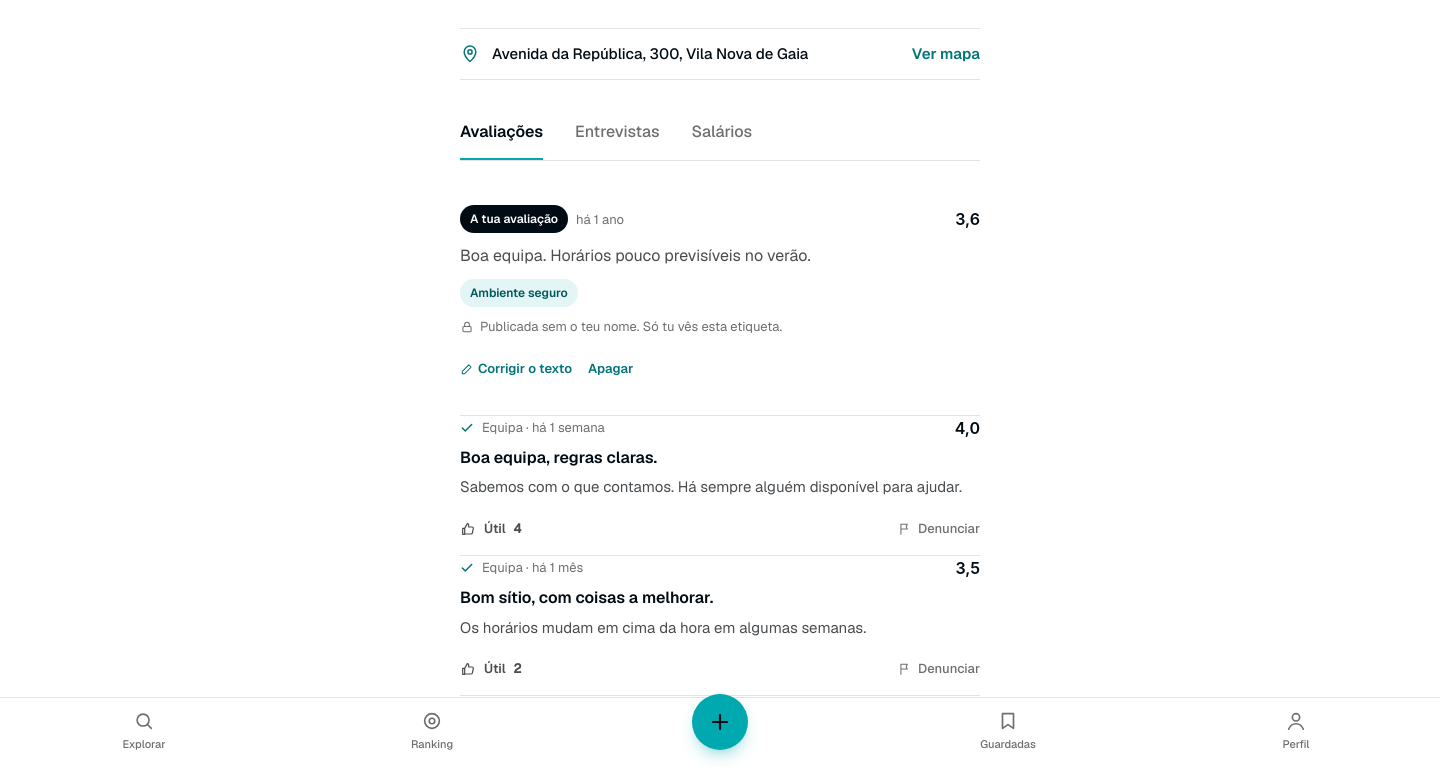
Test: A minha avaliação (mobile) › apagar pede confirmação; cancelar mantém, confirmar apaga
(page scrolled)
Click the button "Apagar" at (611, 369), box [588,347,633,391]
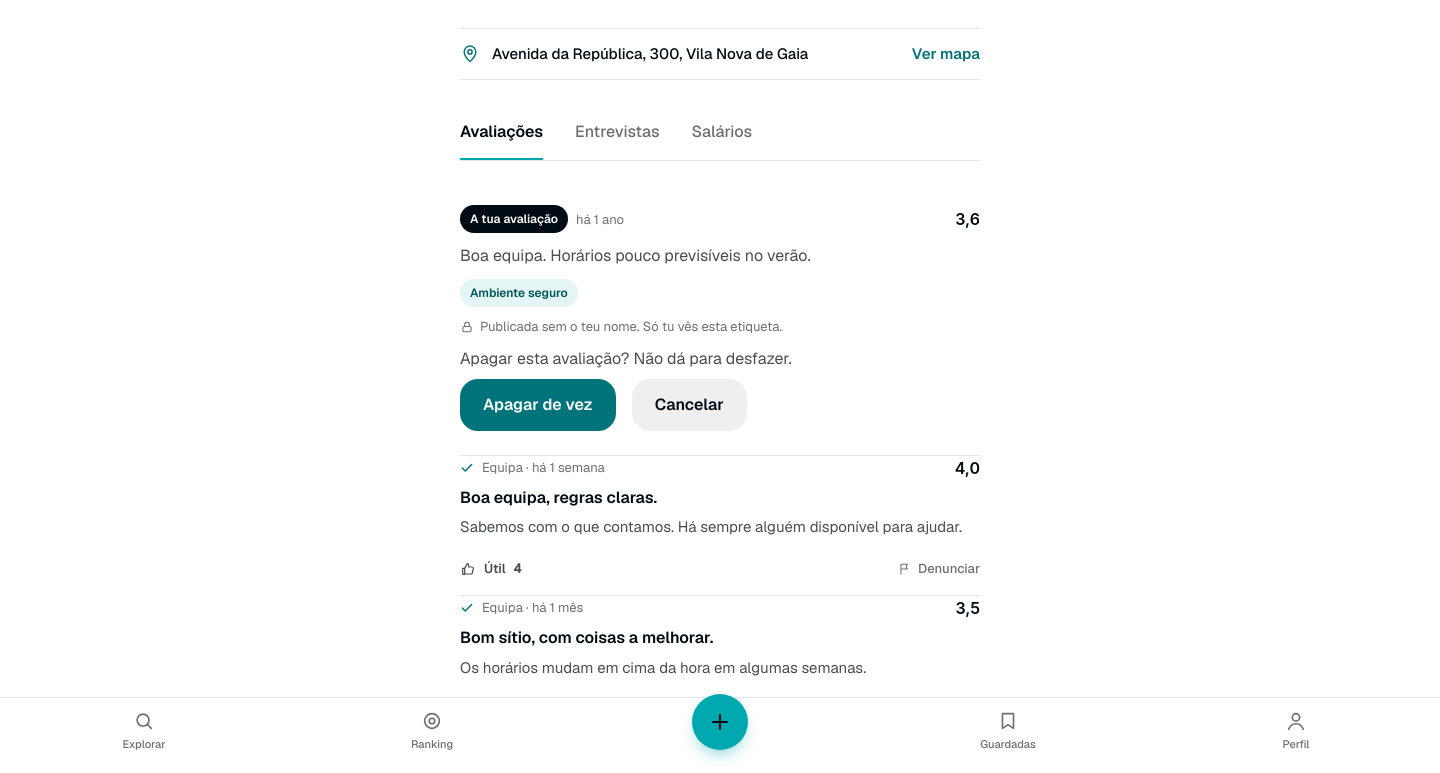
Expected: the text "Apagar esta avaliação? Não dá para desfazer." is shown, [460,348,792,369]
Click the button "Cancelar" at (689, 405), box [632,379,747,431]
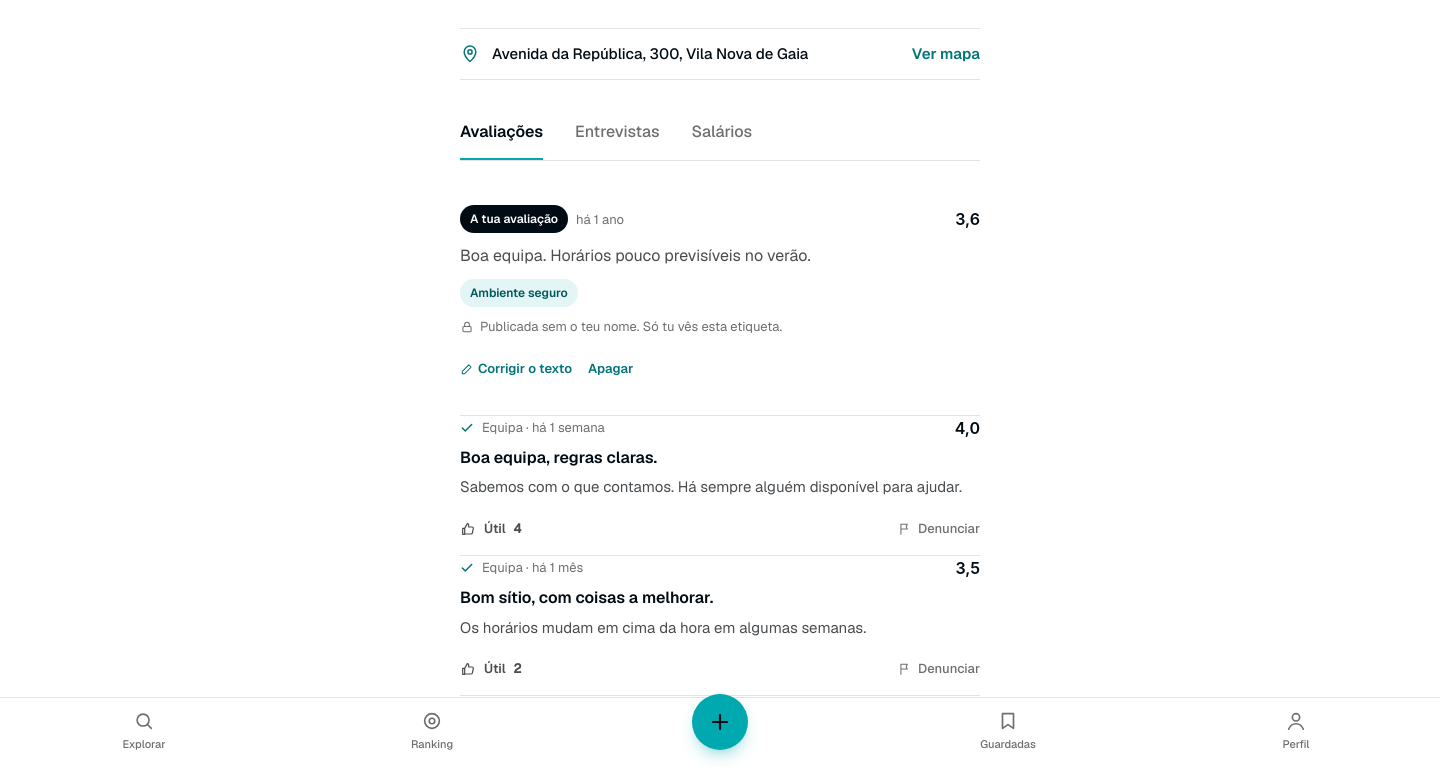
Expected: the text "Não dá para desfazer" is gone
Click the button "Apagar" at (611, 369), box [588,347,633,391]
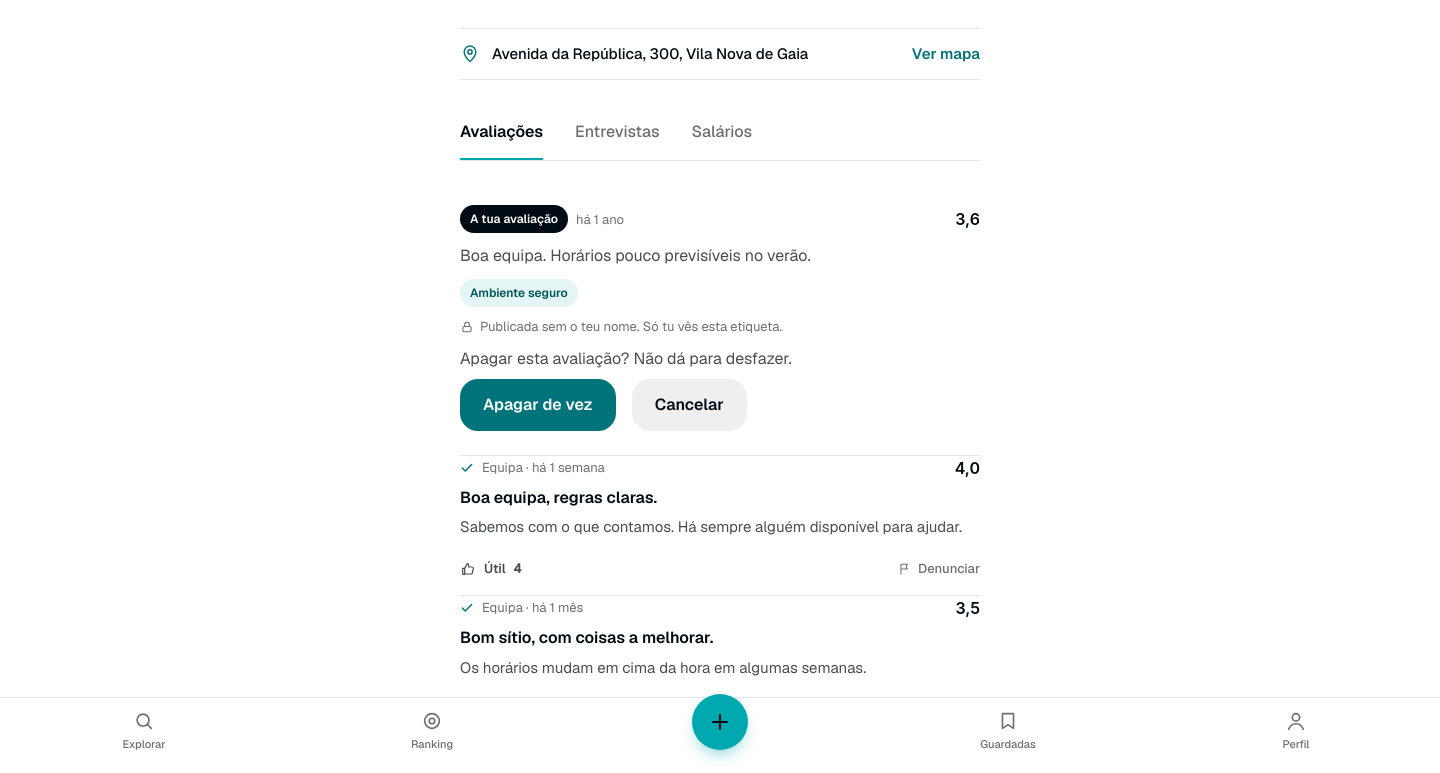
Click the button "Apagar de vez" at (538, 405), box [460,379,616,431]
(page scrolled)
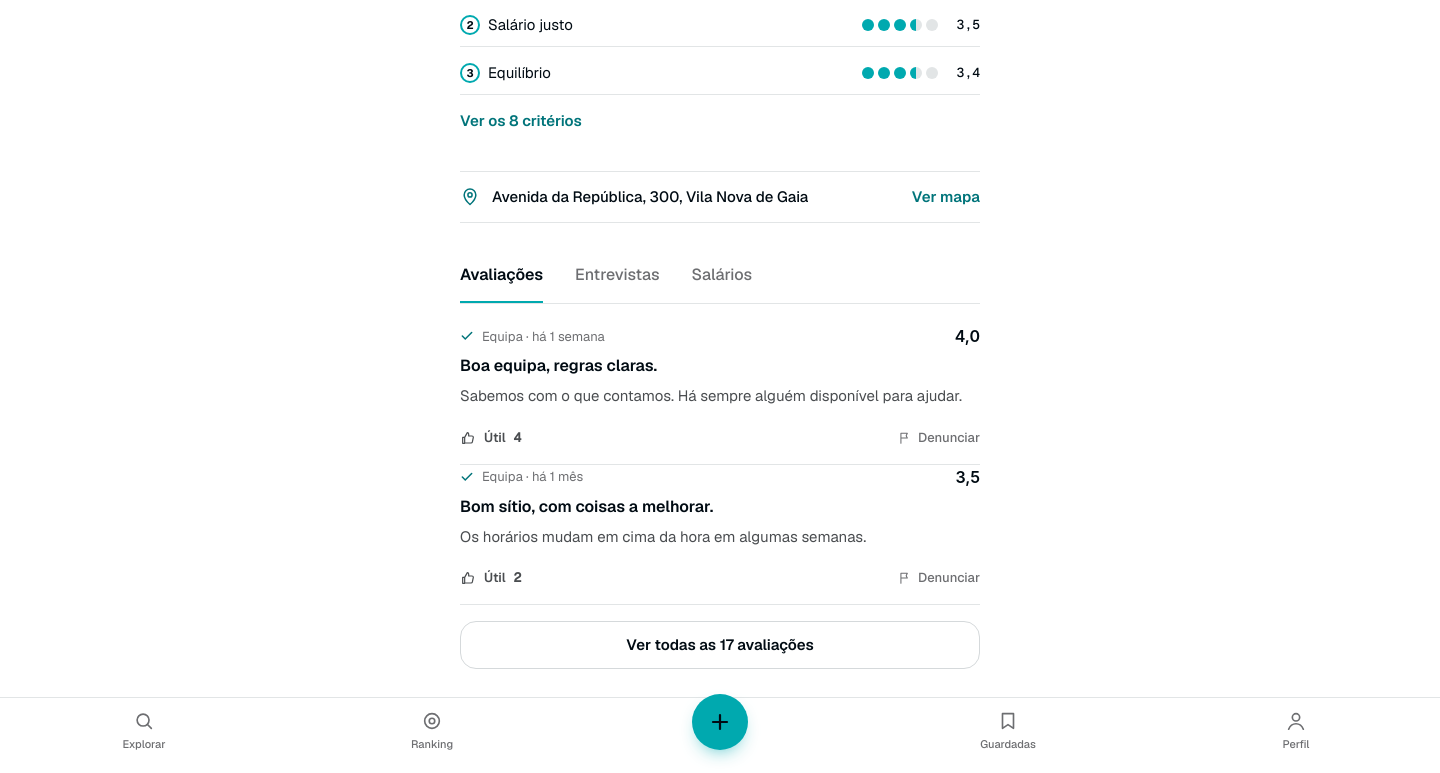
Expected: the text "A tua avaliação" is gone
